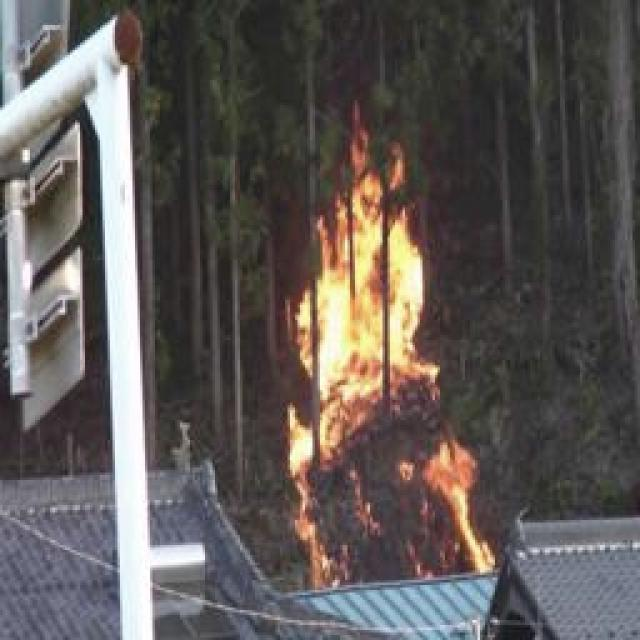Fire: (282, 131, 483, 586)
